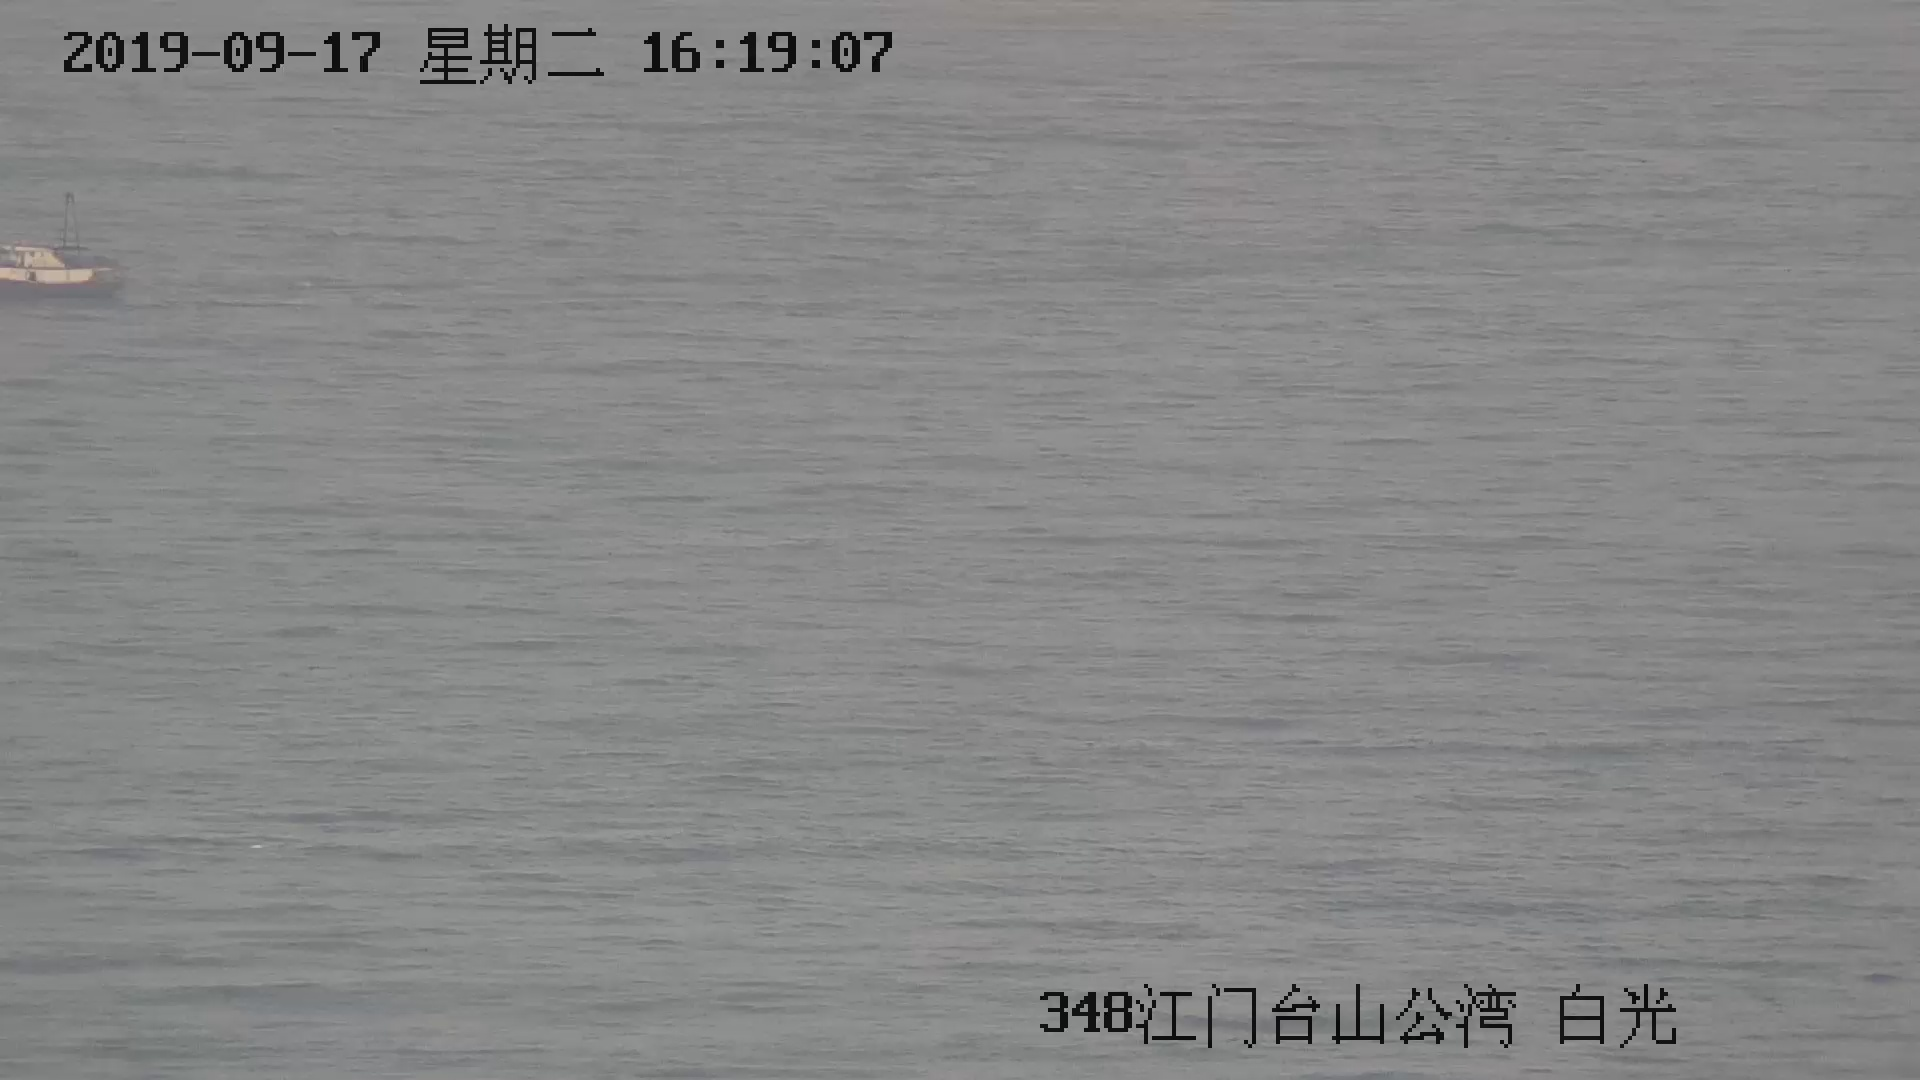ship: (1, 193, 127, 294)
